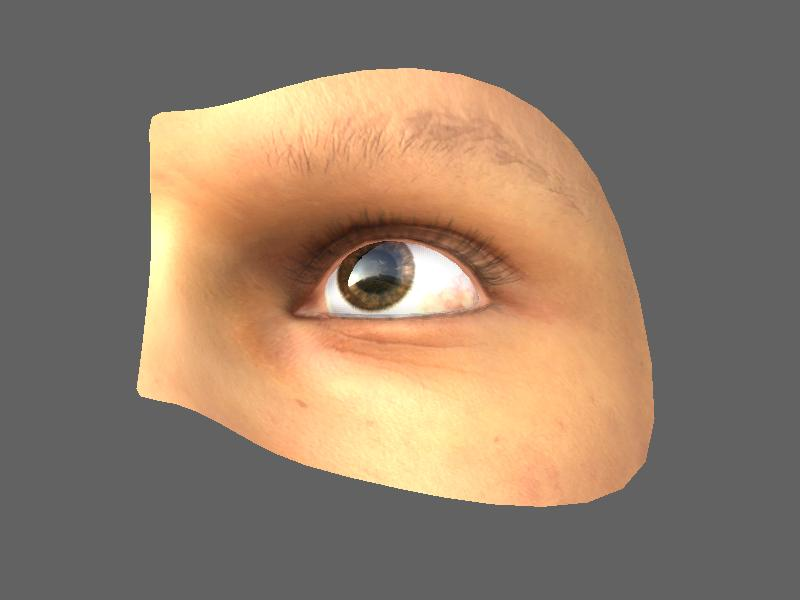iris: (337, 244, 414, 313)
